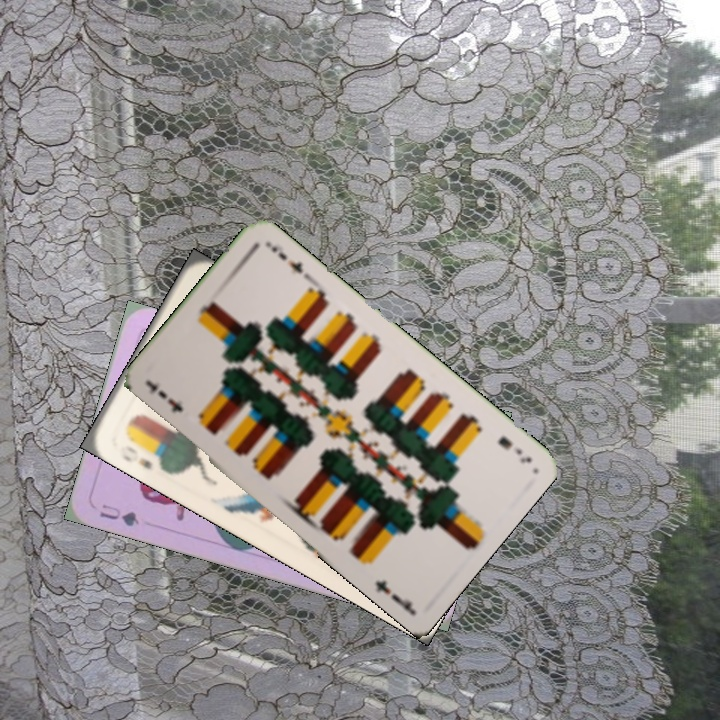E7: (494, 432, 535, 467), (153, 386, 185, 416)
EO: (115, 441, 155, 472)
GU: (95, 500, 142, 529)
